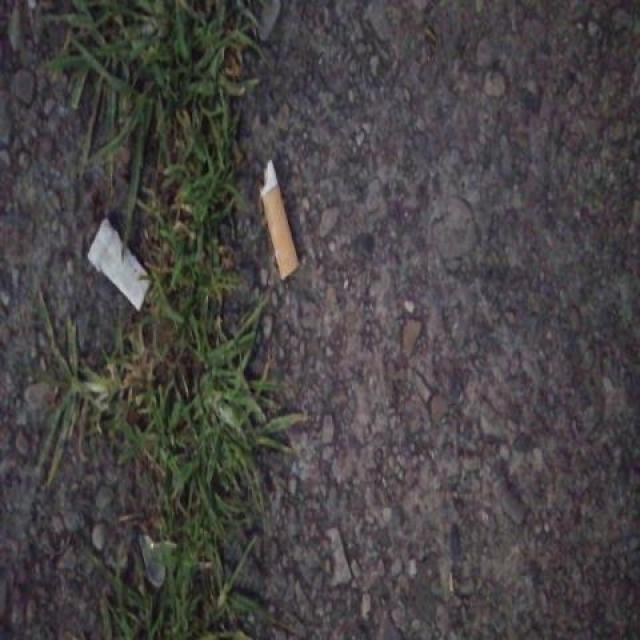non-organic waste: (83, 215, 157, 316), (252, 156, 303, 284)
